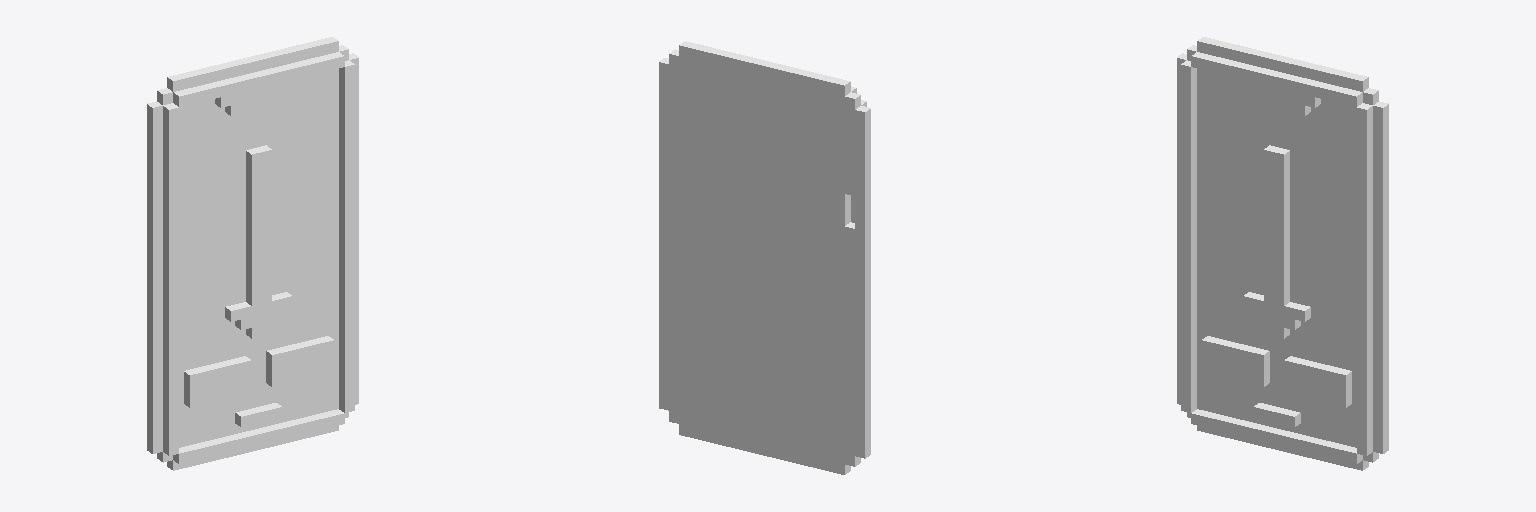
File: phoneTapToInteract.obj
The picture shows the model from 3 angles: view 1: azimuth 30°, elevation 25°; view 2: azimuth 150°, elevation 25°; view 3: azimuth 330°, elevation 25°; orthographic projection.
Size of the model in its own units: 20 by 36 by 2.